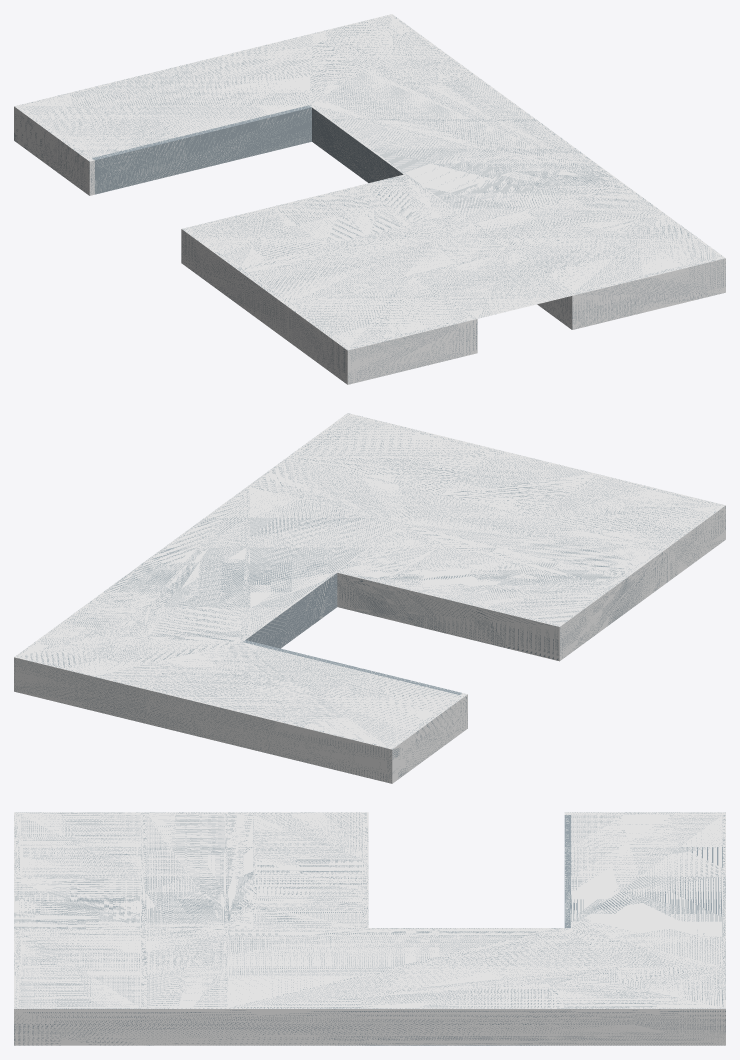
File: 4th flooredit.fbx
3 renders of one model, top to bottom at view 1: azimuth 30°, elevation 25°; view 2: azimuth 150°, elevation 25°; view 3: azimuth 270°, elevation 25°, orthographic. The views are drawn at different scales.
Visible parts, largest first — view 1: Model; view 2: Model; view 3: Model.
Boxes of the visible parts, x1,y1,x2,y2 form: Model: (14,14,725,384); Model: (14,413,725,783); Model: (14,812,725,1045).
Size of the model in its own units: 23.05 by 2.01 by 35.22.
